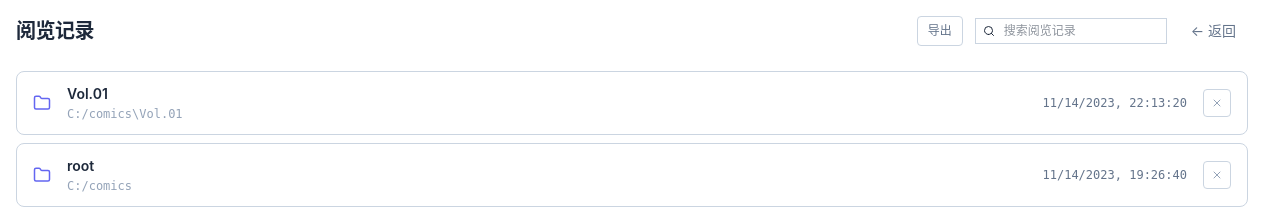
Test: History.vue › 搜索无结果显示「没有匹配项」而非空状态
Type "zzz不存在" into the field with test id "list-search-input" at (1071, 31), box [975, 18, 1167, 44]
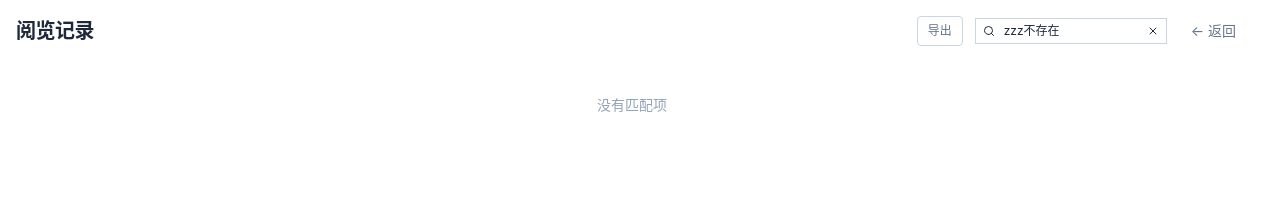
Result: the text "没有匹配项" is shown at [597, 96, 667, 113]
